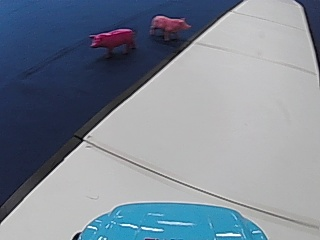pig: (86, 24, 136, 59), (147, 11, 192, 42)
